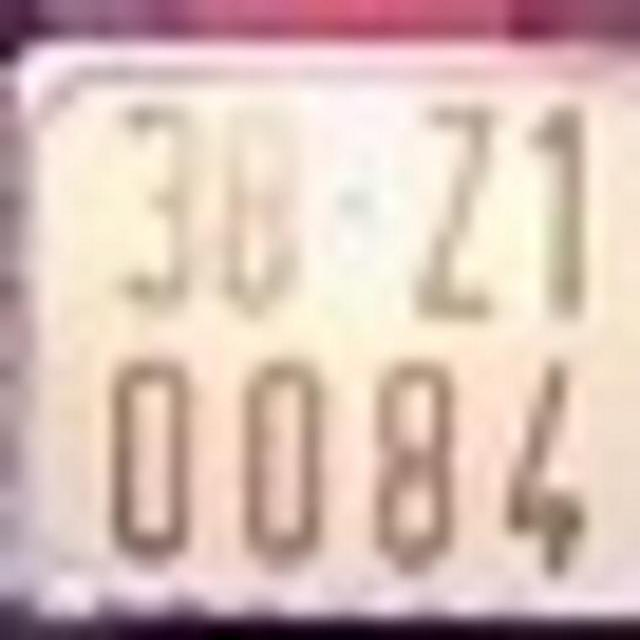0: (237, 345, 331, 569), (105, 345, 193, 569)
1: (523, 96, 600, 321)
3: (114, 92, 196, 308)
4: (505, 354, 586, 581)
8: (375, 344, 459, 578), (215, 96, 304, 315)
Z: (407, 95, 502, 324)
